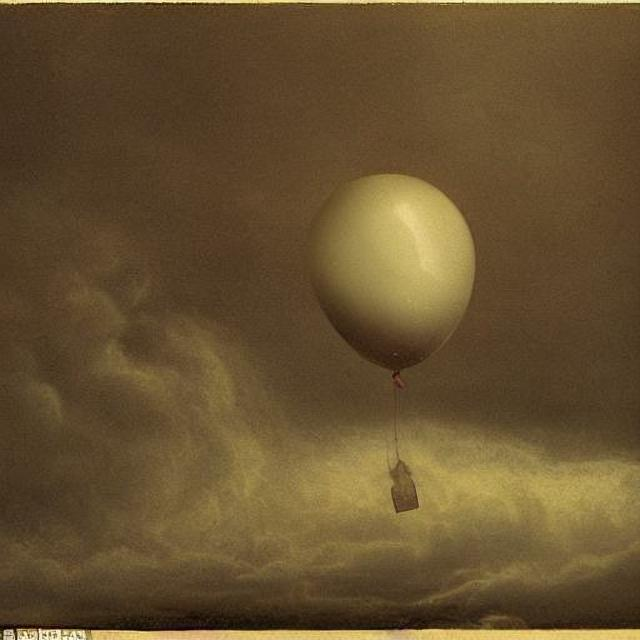balloon: (296, 168, 478, 380), (387, 451, 419, 513)
